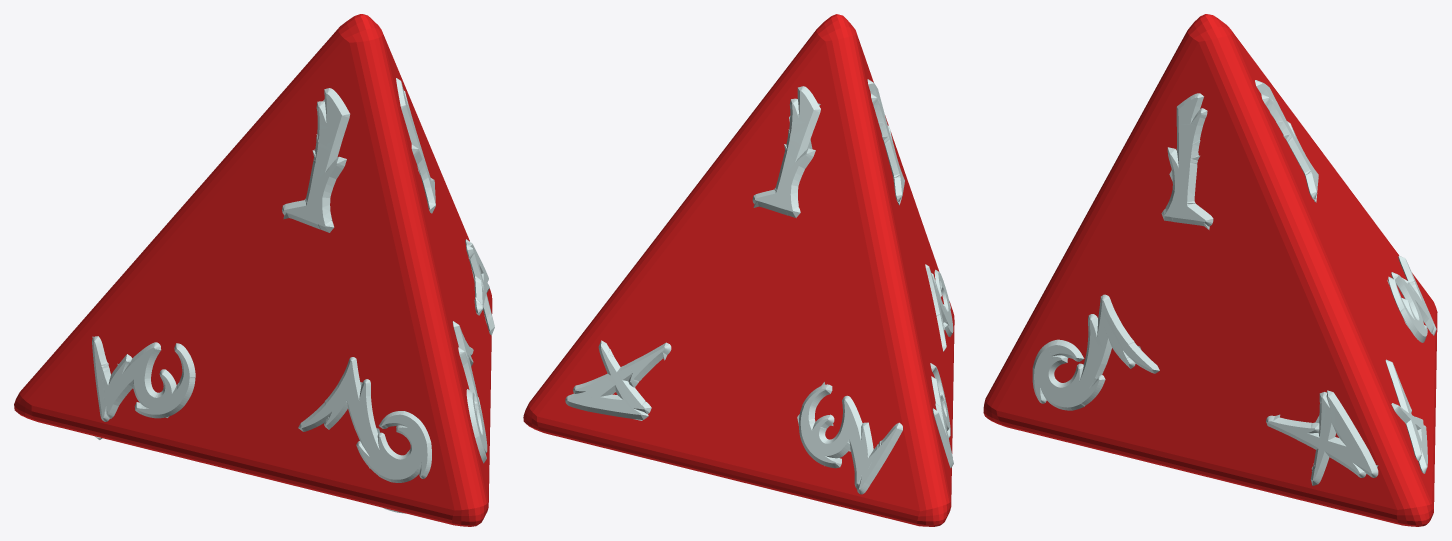
Rendered from D4_3D_Red.glb.
3 renders of one model, left to right at view 1: azimuth 30°, elevation 25°; view 2: azimuth 150°, elevation 25°; view 3: azimuth 270°, elevation 25°, orthographic. The views are drawn at different scales.
Visible parts, largest first — view 1: Cone; view 2: Cone; view 3: Cone.
Boxes of the visible parts, box(x1,y1,x2,y2) form: Cone: box(14, 14, 494, 526); Cone: box(523, 14, 954, 526); Cone: box(983, 14, 1437, 526).
Bounding box in the file's own units: 1.93 × 1.74 × 1.71.
